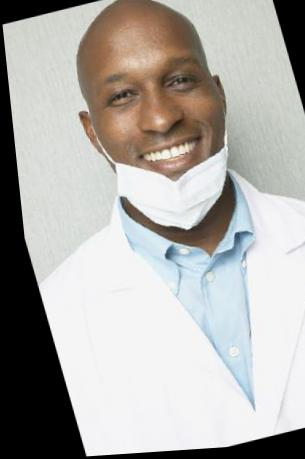WRONG: (76, 38, 243, 230)
